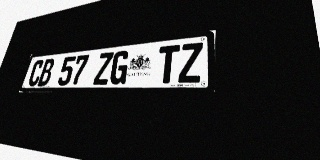5: (57, 56, 76, 86)
7: (69, 54, 89, 85)
B: (37, 58, 56, 86)
C: (27, 59, 45, 86)
G: (108, 50, 130, 84)
T: (156, 45, 180, 83)
Z: (178, 42, 203, 83), (93, 52, 114, 85)
